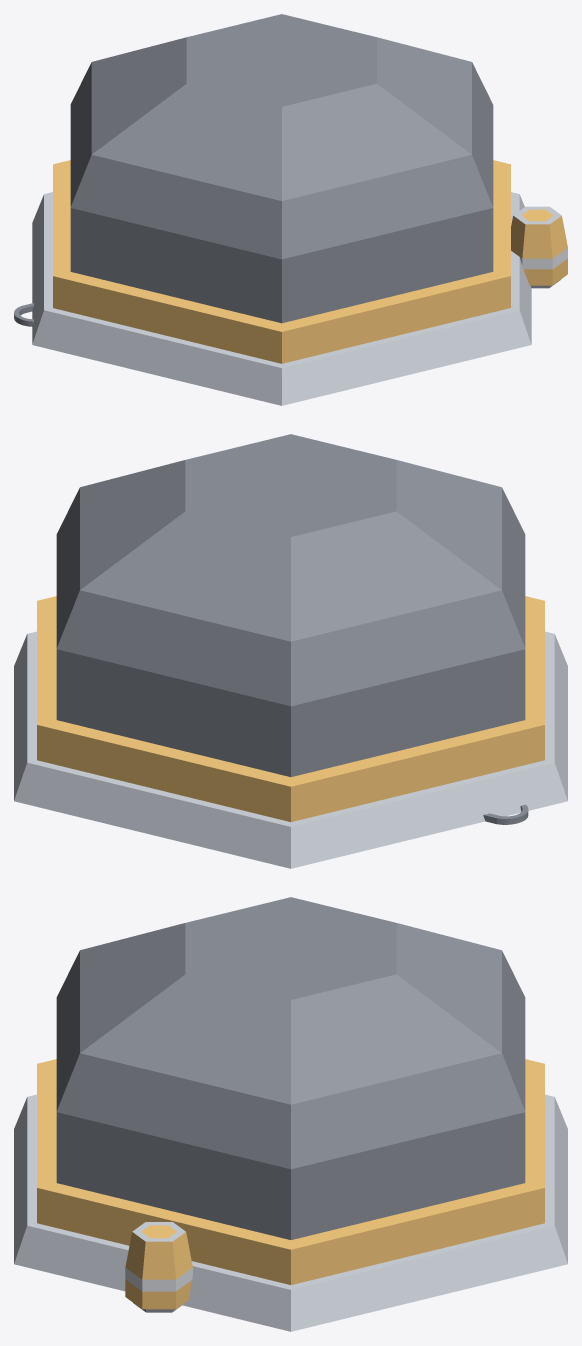
The model's file is greenhouse_lvl3.glb.
The picture shows the model from 3 angles, top to bottom: view 1: azimuth 30°, elevation 25°; view 2: azimuth 150°, elevation 25°; view 3: azimuth 270°, elevation 25°; orthographic projection. The views are drawn at different scales.
Parts seen in each view (by area): view 1: hangar_roundGlass.001, machine_barrel.001; view 2: hangar_roundGlass.001; view 3: hangar_roundGlass.001, machine_barrel.001.
Boxes of the visible parts, x1,y1,x2,y2 form: hangar_roundGlass.001: (32, 14, 531, 405); machine_barrel.001: (511, 206, 567, 288); hangar_roundGlass.001: (14, 434, 567, 868); hangar_roundGlass.001: (14, 897, 567, 1331); machine_barrel.001: (125, 1222, 192, 1312).
Bounding box in the file's own units: 3.66 × 1.57 × 3.17.
